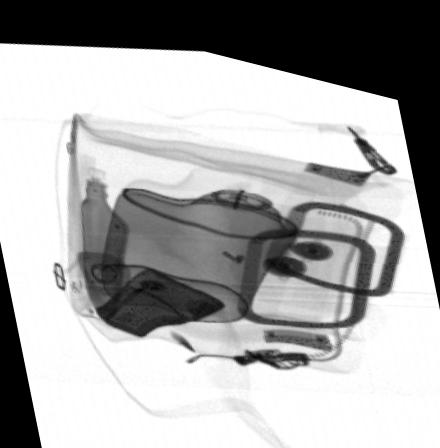Lighter: (93, 259, 225, 330)
Sprayer: (100, 153, 315, 309)
